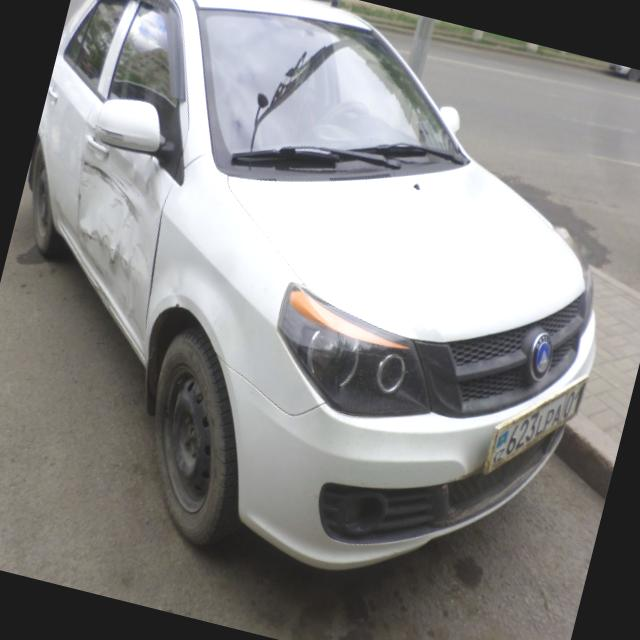Cabossage: (51, 129, 181, 307)
Rayure: (68, 154, 157, 223), (62, 225, 153, 282)
